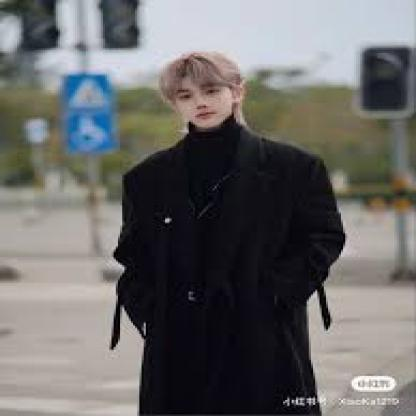person: (160, 48, 254, 131)
